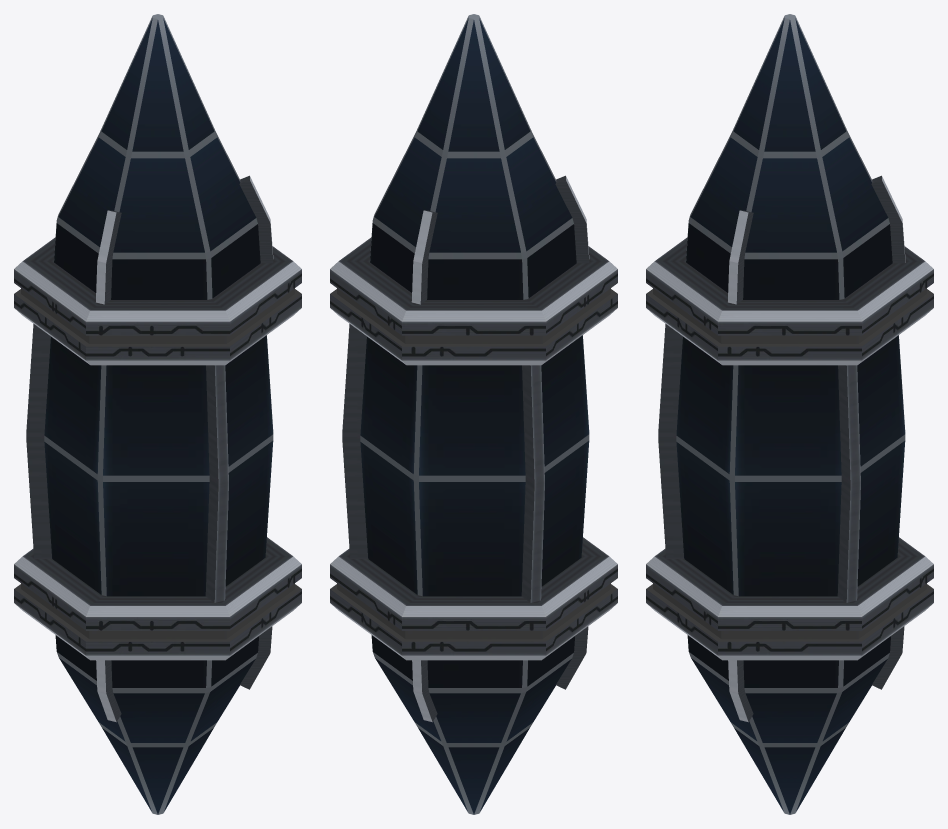
Rendered from data_shard.glb.
The picture shows the model from 3 angles, left to right: view 1: azimuth 30°, elevation 25°; view 2: azimuth 150°, elevation 25°; view 3: azimuth 270°, elevation 25°; orthographic projection.
Visible parts, largest first — view 1: Data_Shard; view 2: Data_Shard; view 3: Data_Shard.
Part boxes in pixels (bbox=[...]): Data_Shard: bbox=[14, 14, 301, 814]; Data_Shard: bbox=[330, 14, 617, 814]; Data_Shard: bbox=[646, 14, 933, 814].
Bounding box in the file's own units: 0.5679 × 2 × 0.6558.
Materials: 1 (1 with a texture image).
